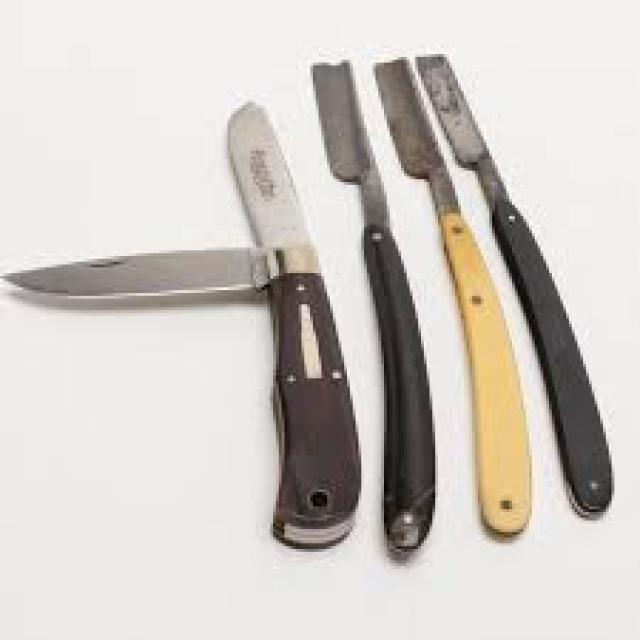knives: (5, 99, 352, 570)
